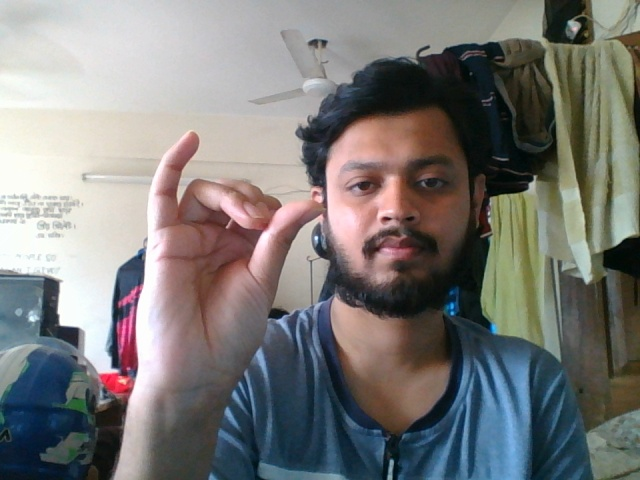oi: (134, 123, 331, 442)
